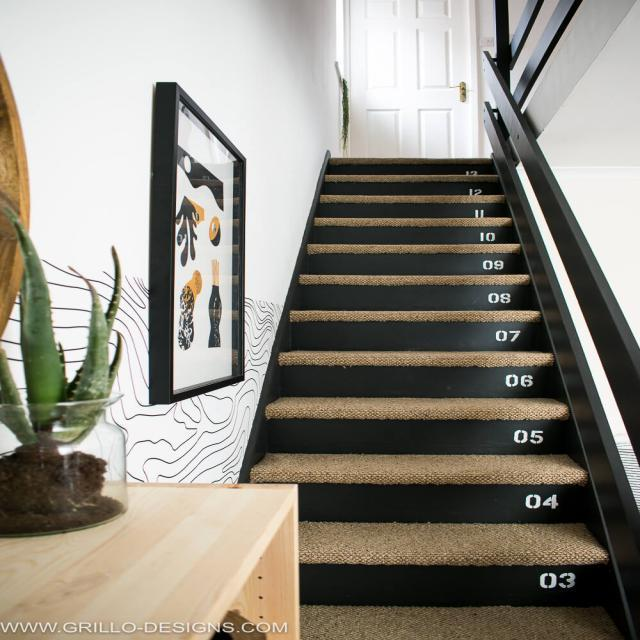stairs: (244, 151, 616, 610)
